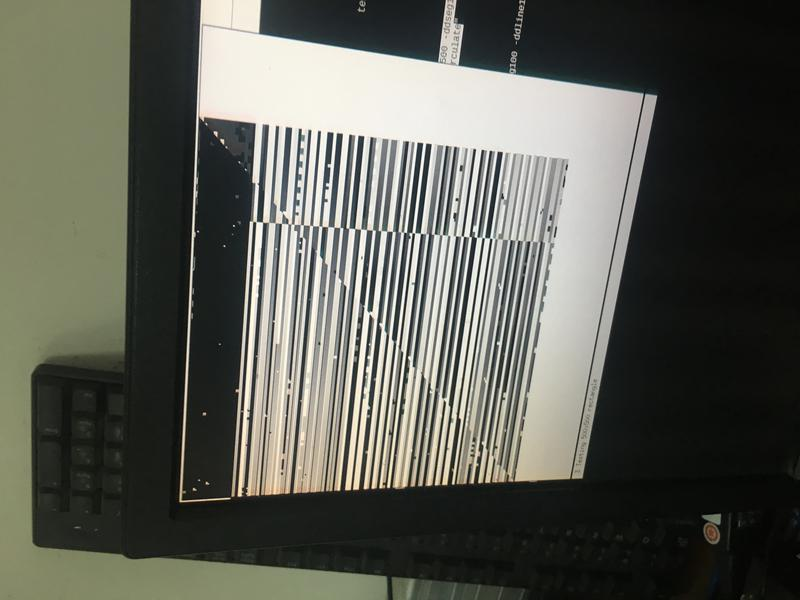xrandr_pass: (179, 14, 661, 503)
